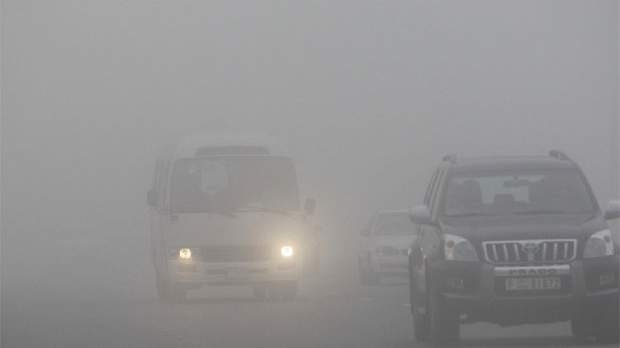bus: (151, 133, 304, 296)
car: (391, 151, 617, 343), (352, 204, 424, 285), (303, 204, 327, 280)
